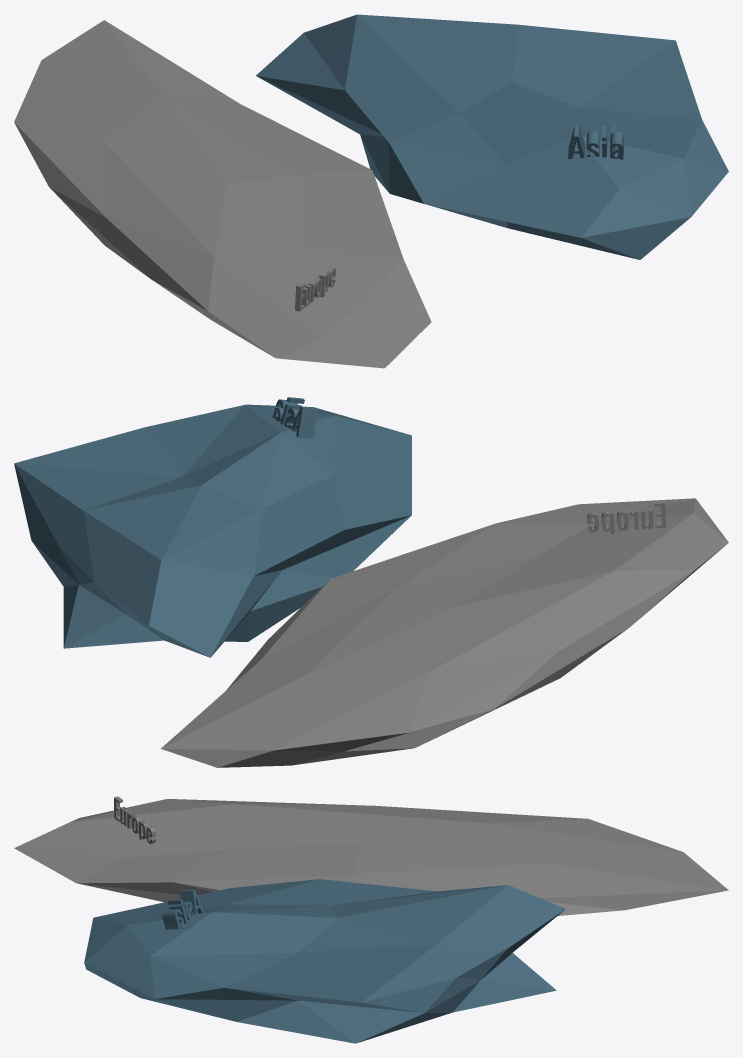
The model's file is utc6_2.obj.
The picture shows the model from 3 angles, top to bottom: view 1: azimuth 30°, elevation 25°; view 2: azimuth 150°, elevation 25°; view 3: azimuth 270°, elevation 25°; orthographic projection. The views are drawn at different scales.
Parts seen in each view (by area): view 1: Icosphere_Icosphere.002, Icosphere.001, Curve.003_Curve.008, Curve; view 2: Icosphere_Icosphere.002, Icosphere.001, Curve.003_Curve.008, Curve; view 3: Icosphere.001, Icosphere_Icosphere.002, Curve.003_Curve.008, Curve.
Boxes of the visible parts, x1,y1,x2,y2 form: Icosphere_Icosphere.002: [14, 20, 431, 368]; Icosphere.001: [256, 14, 728, 259]; Curve.003_Curve.008: [568, 124, 624, 159]; Curve: [295, 267, 335, 311]; Icosphere_Icosphere.002: [161, 498, 728, 767]; Icosphere.001: [14, 404, 411, 657]; Curve.003_Curve.008: [257, 397, 317, 438]; Curve: [587, 501, 665, 534]; Icosphere.001: [84, 879, 565, 1043]; Icosphere_Icosphere.002: [14, 799, 728, 915]; Curve.003_Curve.008: [162, 889, 203, 929]; Curve: [114, 796, 155, 843].
Size of the model in its own units: 376 by 77.14 by 463.
